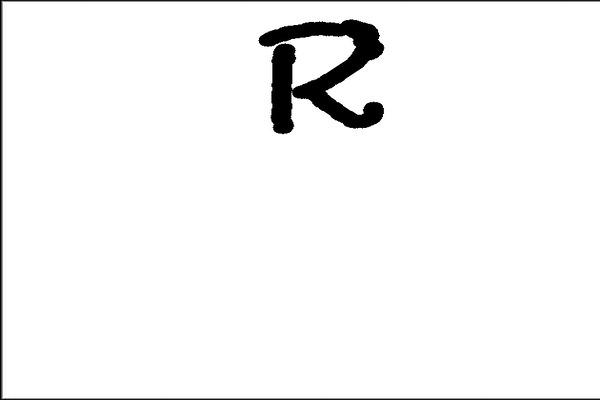R: (255, 10, 394, 132)
